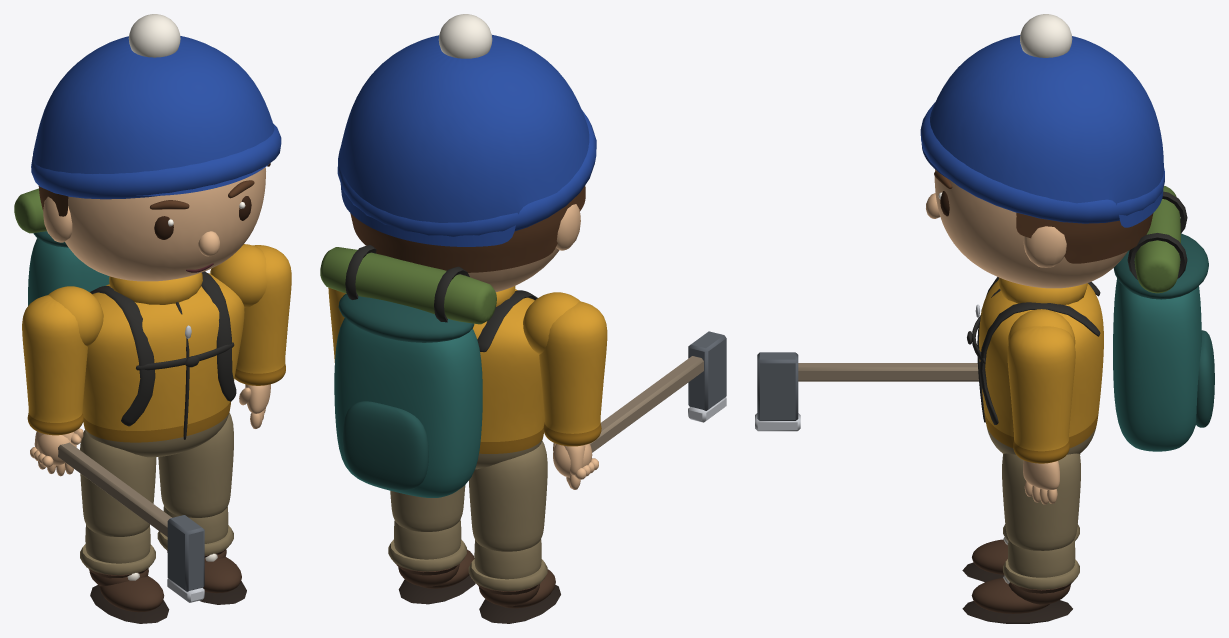
The model's file is hiker.glb.
The picture shows the model from 3 angles, left to right: view 1: azimuth 30°, elevation 25°; view 2: azimuth 150°, elevation 25°; view 3: azimuth 270°, elevation 25°; orthographic projection. The views are drawn at different scales.
Parts seen in each view (by area): view 1: Hiker_Head, Hiker_Torso, Hiker_ArmR, Hiker_ArmL, Hiker_ShinR, Hiker_Axe, Hiker_LegL, Hiker_LegR, Hiker_ShinL, Hiker_FistR, Hiker_HandR; view 2: Hiker_Head, Hiker_Torso, Hiker_ArmR, Hiker_LegR, Hiker_ShinR, Hiker_Axe, Hiker_ShinL, Hiker_LegL, Hiker_FistR, Hiker_ArmL, Hiker_HandR; view 3: Hiker_Head, Hiker_Torso, Hiker_ArmL, Hiker_Axe, Hiker_ShinL, Hiker_LegL, Hiker_ShinR.
Part boxes in pixels (left/top/right/bottom): Hiker_Head: left=31, top=14, right=281, bottom=281; Hiker_Torso: left=14, top=188, right=266, bottom=457; Hiker_ArmR: left=22, top=295, right=87, bottom=435; Hiker_ArmL: left=234, top=245, right=291, bottom=428; Hiker_ShinR: left=80, top=525, right=169, bottom=623; Hiker_Axe: left=58, top=442, right=204, bottom=602; Hiker_LegL: left=158, top=412, right=233, bottom=517; Hiker_LegR: left=80, top=430, right=156, bottom=536; Hiker_ShinL: left=157, top=506, right=246, bottom=604; Hiker_FistR: left=30, top=433, right=81, bottom=467; Hiker_HandR: left=34, top=428, right=83, bottom=476; Hiker_Head: left=337, top=14, right=596, bottom=292; Hiker_Torso: left=320, top=245, right=580, bottom=497; Hiker_ArmR: left=539, top=301, right=607, bottom=446; Hiker_LegR: left=469, top=441, right=547, bottom=551; Hiker_ShinR: left=468, top=539, right=560, bottom=623; Hiker_Axe: left=589, top=331, right=726, bottom=452; Hiker_ShinL: left=388, top=519, right=475, bottom=604; Hiker_LegL: left=390, top=485, right=465, bottom=531; Hiker_FistR: left=553, top=443, right=598, bottom=479; Hiker_ArmL: left=328, top=287, right=345, bottom=362; Hiker_HandR: left=553, top=443, right=585, bottom=489; Hiker_Head: left=920, top=14, right=1164, bottom=288; Hiker_Torso: left=967, top=185, right=1214, bottom=454; Hiker_ArmL: left=1007, top=326, right=1075, bottom=504; Hiker_Axe: left=755, top=352, right=978, bottom=431; Hiker_ShinL: left=962, top=539, right=1079, bottom=623; Hiker_LegL: left=1002, top=453, right=1080, bottom=550; Hiker_ShinR: left=962, top=524, right=1079, bottom=581.
Size of the model in its own units: 0.6695 by 1.41 by 1.01.
